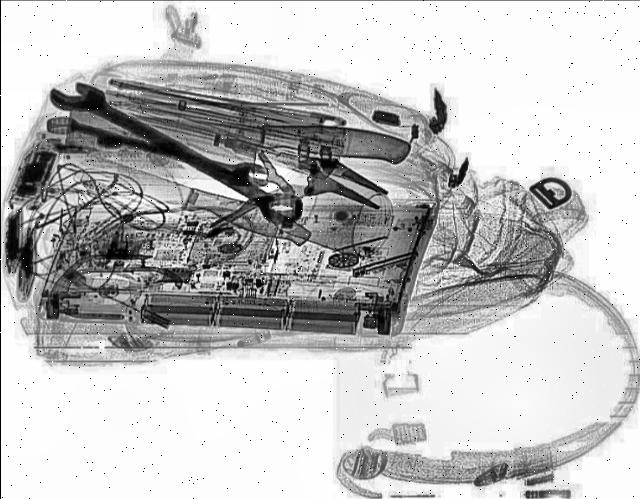Knife: (54, 87, 412, 207), (54, 134, 316, 252)
Wrench: (38, 72, 316, 228), (39, 112, 270, 188)
